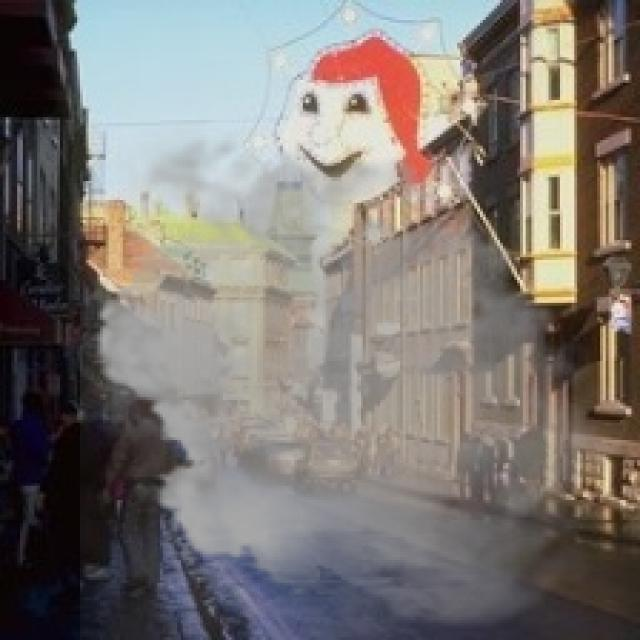smoke: (80, 120, 637, 637)
